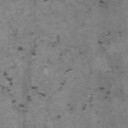oxide scale of temperature system: (2, 34, 110, 118), (98, 30, 122, 45), (98, 0, 108, 5), (116, 66, 120, 68)
